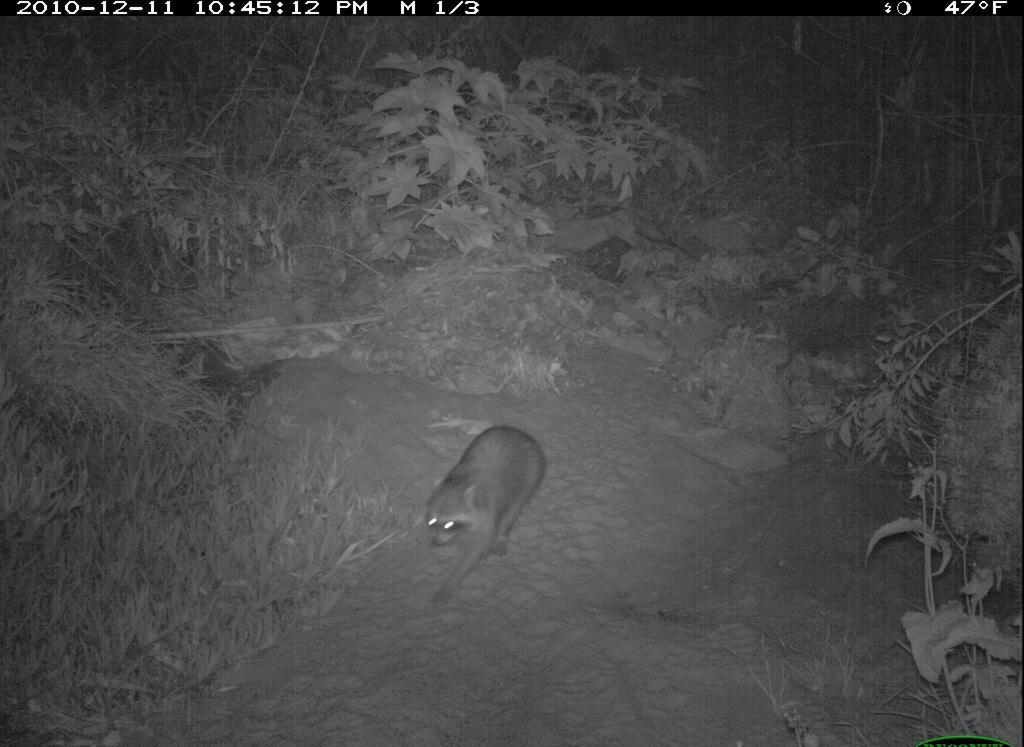raccoon: (401, 424, 566, 617)
